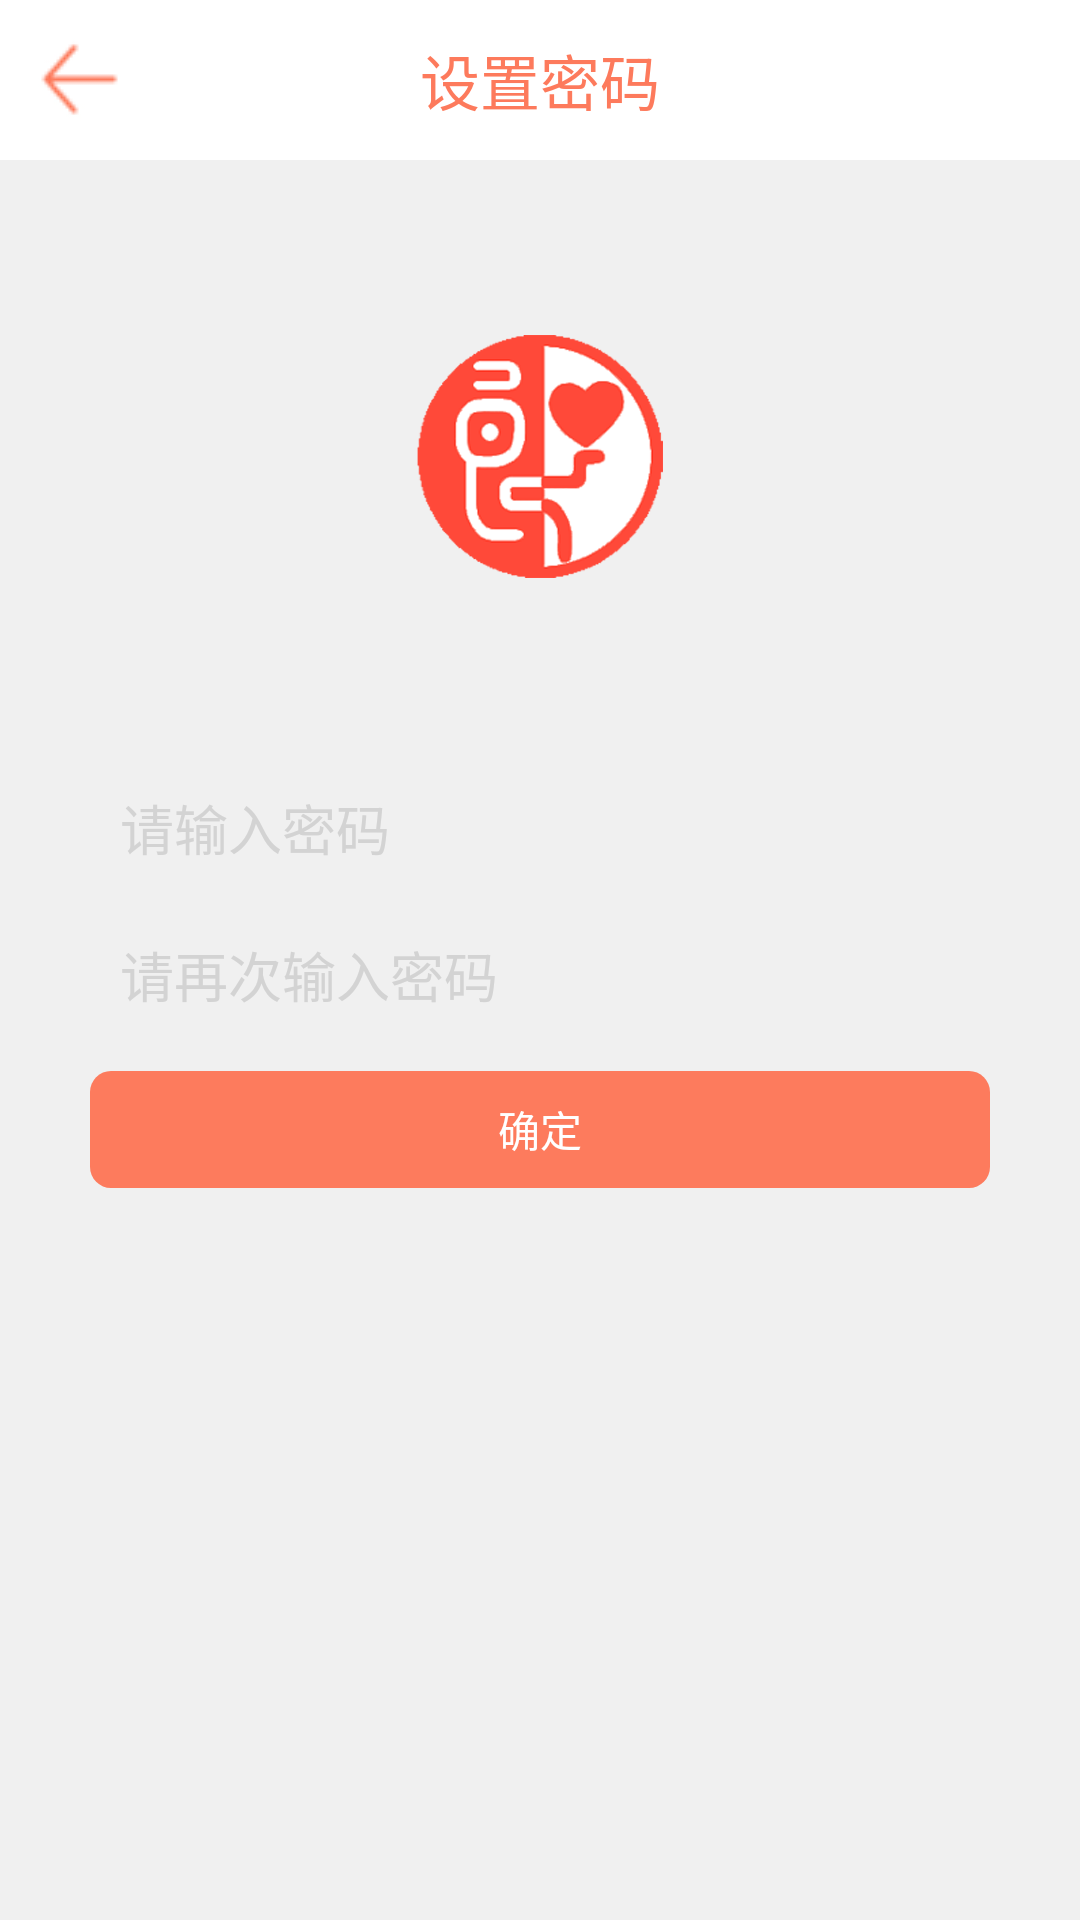

Icon bounding boxes for this 1080x1920 phone screenshot, format bbox=(x1, y1, x2, y2):
zuo: bbox=(42, 44, 118, 115)
